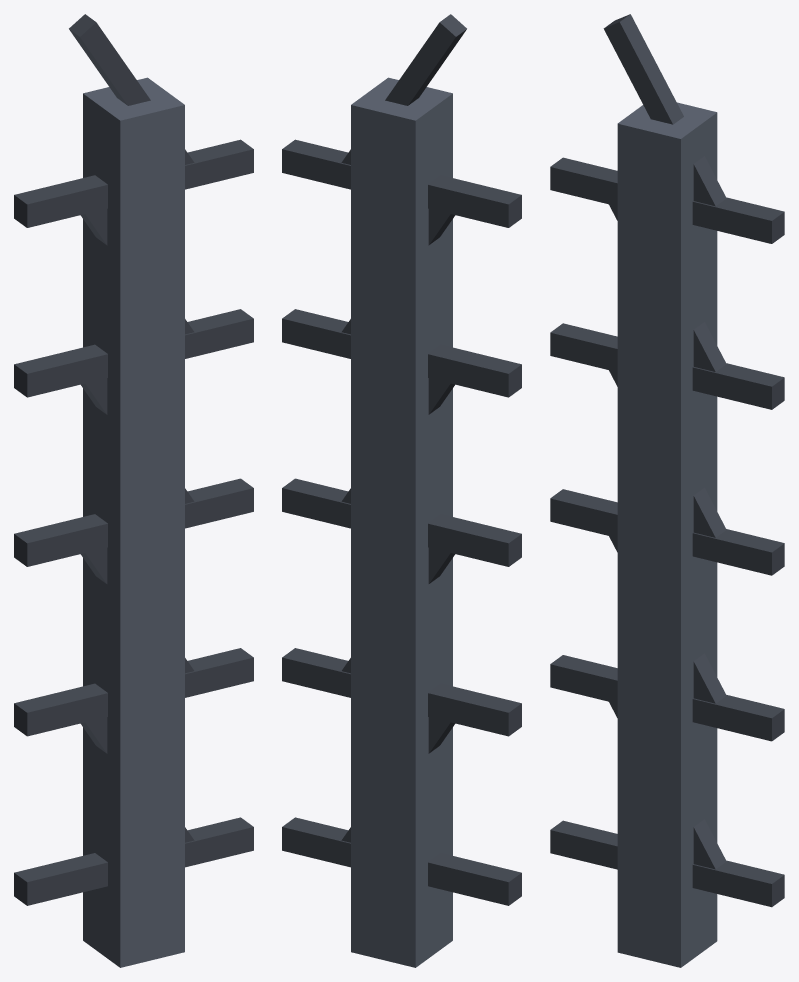
The model's file is prop_strut.glb.
The picture shows the model from 3 angles, left to right: view 1: azimuth 30°, elevation 25°; view 2: azimuth 150°, elevation 25°; view 3: azimuth 330°, elevation 25°; orthographic projection. The views are drawn at different scales.
Parts seen in each view (by area): view 1: prop_strut; view 2: prop_strut; view 3: prop_strut.
Part boxes in pixels (x1,y1,x2,y2): prop_strut: (14,14,253,967); prop_strut: (282,14,521,967); prop_strut: (550,14,784,967).
Size of the model in its own units: 1.4 by 5.54 by 0.4001.
